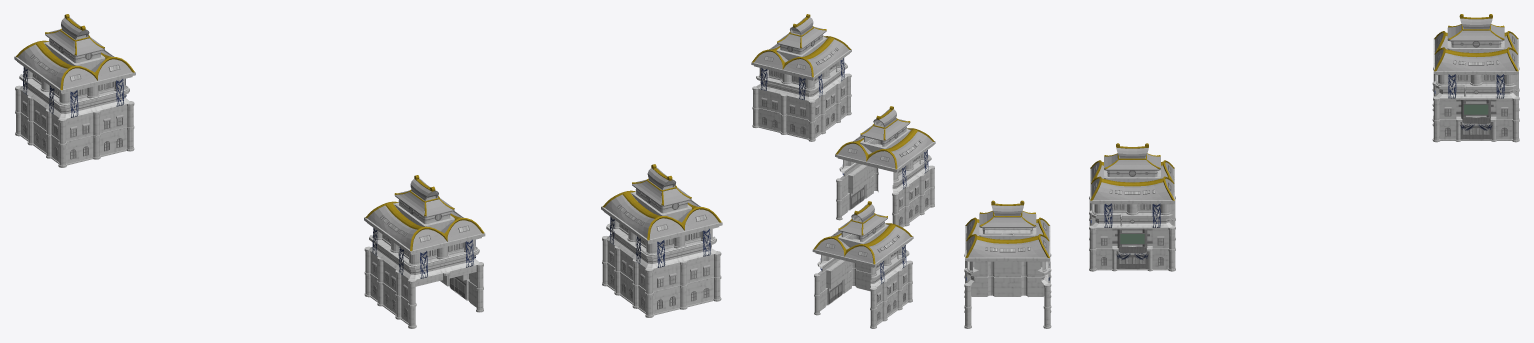
Rendered from MERGED_SM_ENV_KNVLLG_CommonBuilding_I_1.mo.fbx.
3 renders of one model, left to right at view 1: azimuth 30°, elevation 25°; view 2: azimuth 150°, elevation 25°; view 3: azimuth 270°, elevation 25°, orthographic. The views are drawn at different scales.
Parts seen in each view (by area): view 1: MERGED_SM_ENV_KNVLLG_CommonBuilding_I_1.mo; view 2: MERGED_SM_ENV_KNVLLG_CommonBuilding_I_1.mo; view 3: MERGED_SM_ENV_KNVLLG_CommonBuilding_I_1.mo.
Part boxes in pixels (box(x1,y1,x2,y2)): MERGED_SM_ENV_KNVLLG_CommonBuilding_I_1.mo: box(14, 14, 722, 328); MERGED_SM_ENV_KNVLLG_CommonBuilding_I_1.mo: box(751, 14, 935, 328); MERGED_SM_ENV_KNVLLG_CommonBuilding_I_1.mo: box(964, 14, 1519, 328).
Size of the model in its own units: 108 by 46.92 by 140.
